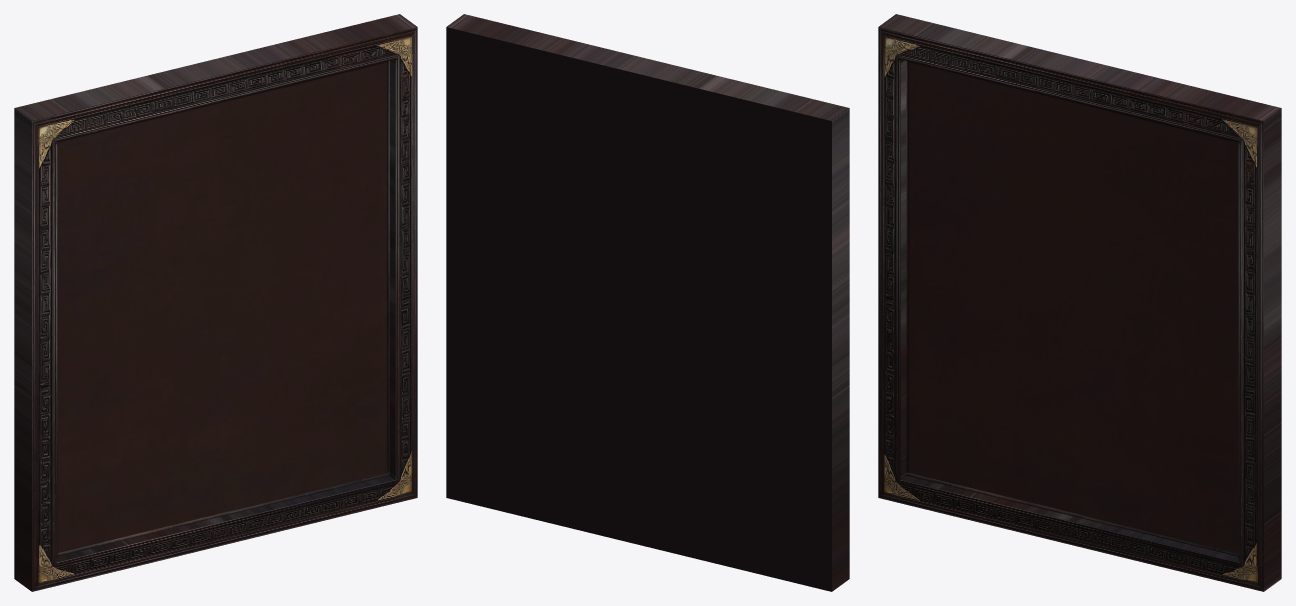
The model's file is panel_menu.glb.
The picture shows the model from 3 angles, left to right: view 1: azimuth 30°, elevation 25°; view 2: azimuth 150°, elevation 25°; view 3: azimuth 330°, elevation 25°; orthographic projection.
Visible parts, largest first — view 1: menu; view 2: menu; view 3: menu.
Boxes of the visible parts, bbox=[...] form: menu: bbox=[14, 14, 417, 591]; menu: bbox=[446, 14, 849, 591]; menu: bbox=[878, 14, 1281, 591].
Size of the model in its own units: 0.48 by 0.56 by 0.042.
1 material, 1 textured.
